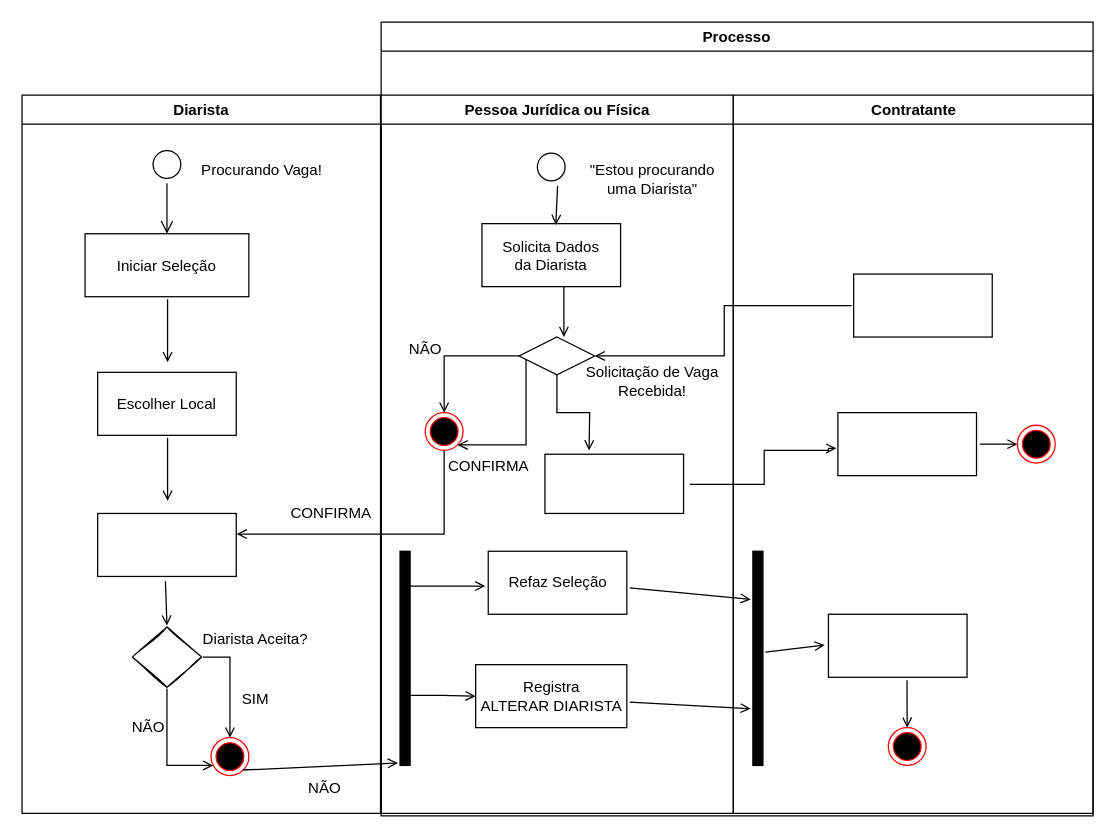
This 1115x838 diagram has some shape labels left out. The centre of each missing label's shape, as x and y in pixels:
Envia Proposta: the point at 922,305
Procura por nova Diarista: the point at 897,645
Realiza Pagamento: the point at 614,483
Recebe Pagamento: the point at 906,443
Recebe Proposta de Vaga: the point at 166,544
